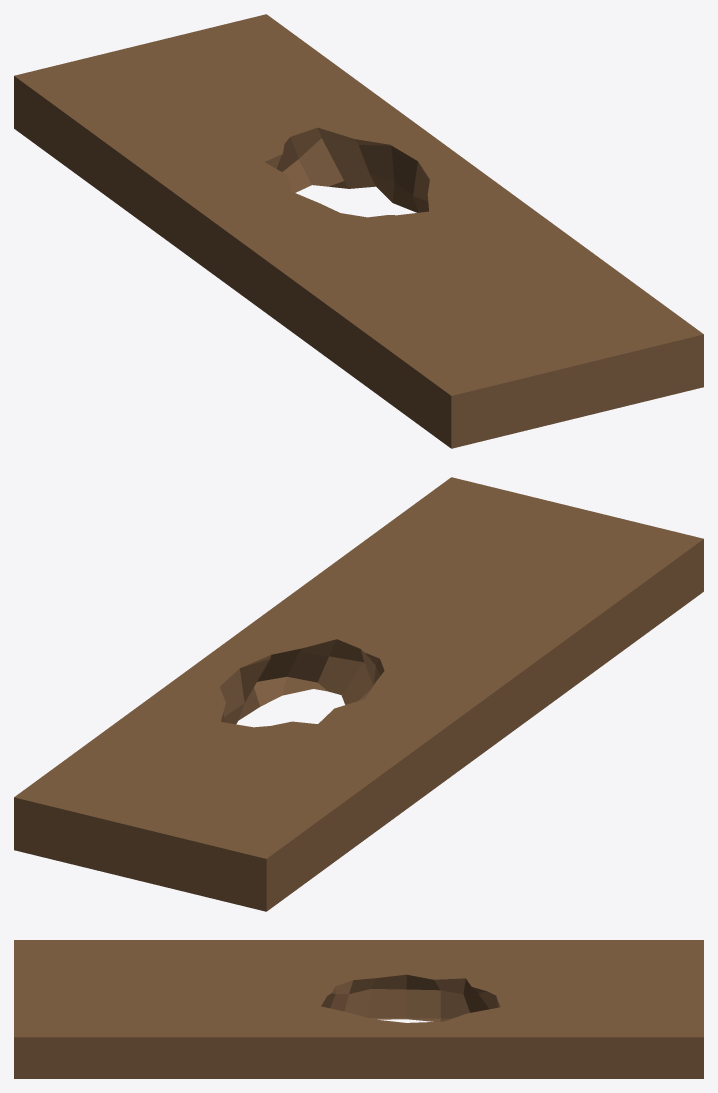
File: plank_3.fbx
3 views of the same model, one above another, from view 1: azimuth 30°, elevation 25°; view 2: azimuth 150°, elevation 25°; view 3: azimuth 270°, elevation 25° (orthographic). The views are drawn at different scales.
Parts seen in each view (by area): view 1: Cube.004; view 2: Cube.004; view 3: Cube.004.
Boxes of the visible parts, left/top/right/bottom form: Cube.004: left=14, top=14, right=703, bottom=448; Cube.004: left=14, top=477, right=703, bottom=911; Cube.004: left=14, top=940, right=703, bottom=1078.
Bounding box in the file's own units: 200 × 40 × 600.
